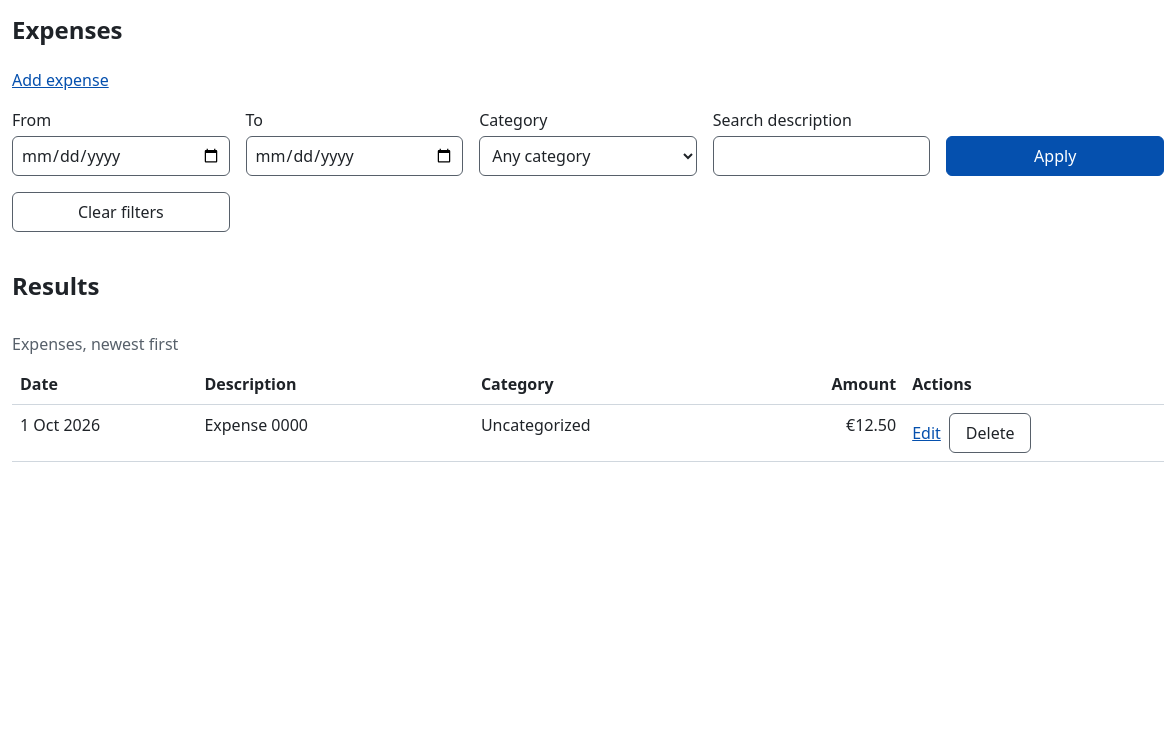
ExpensesView: empty and failed states › removes the field errors of a refused Apply when it empties the unapplied fields
The width and height of the screenshot is (1176, 732).
In the date field with id "filter-from": (121, 156) x1=12 y1=136 x2=230 y2=176, type "2026-10-02"
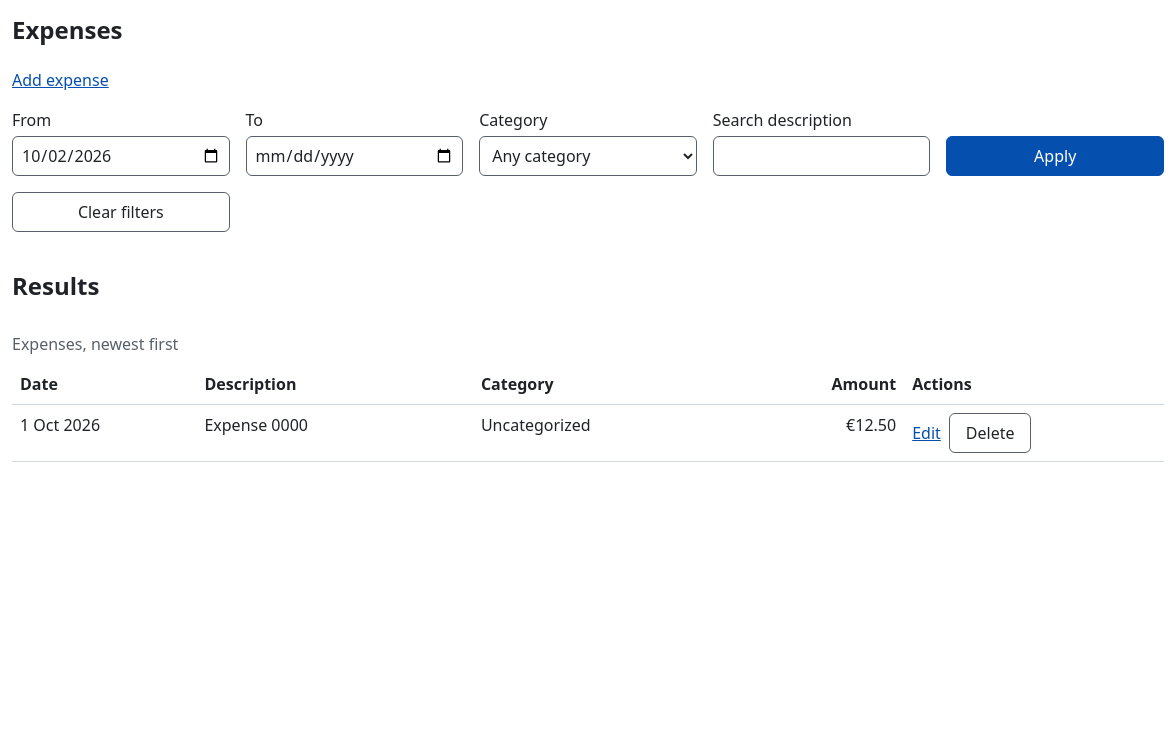
In the date field with id "filter-to": (354, 156) x1=246 y1=136 x2=463 y2=176, type "2026-10-01"
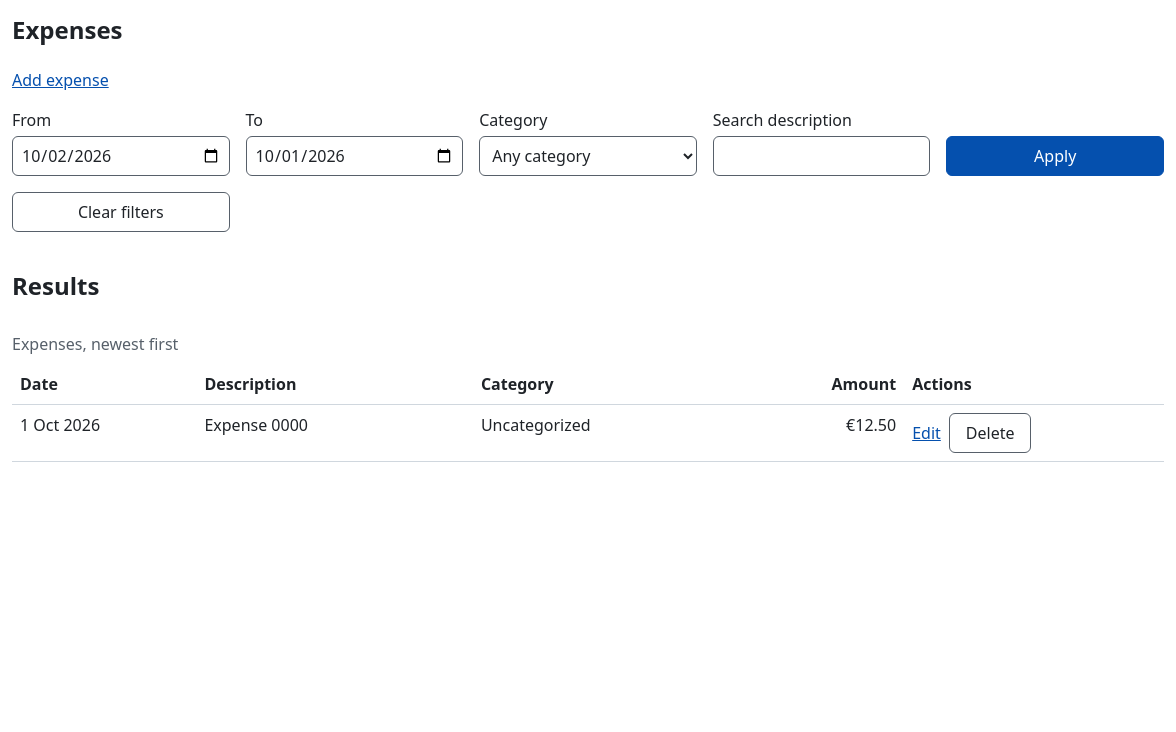
Submit the form, box x1=12 y1=108 x2=1164 y2=248
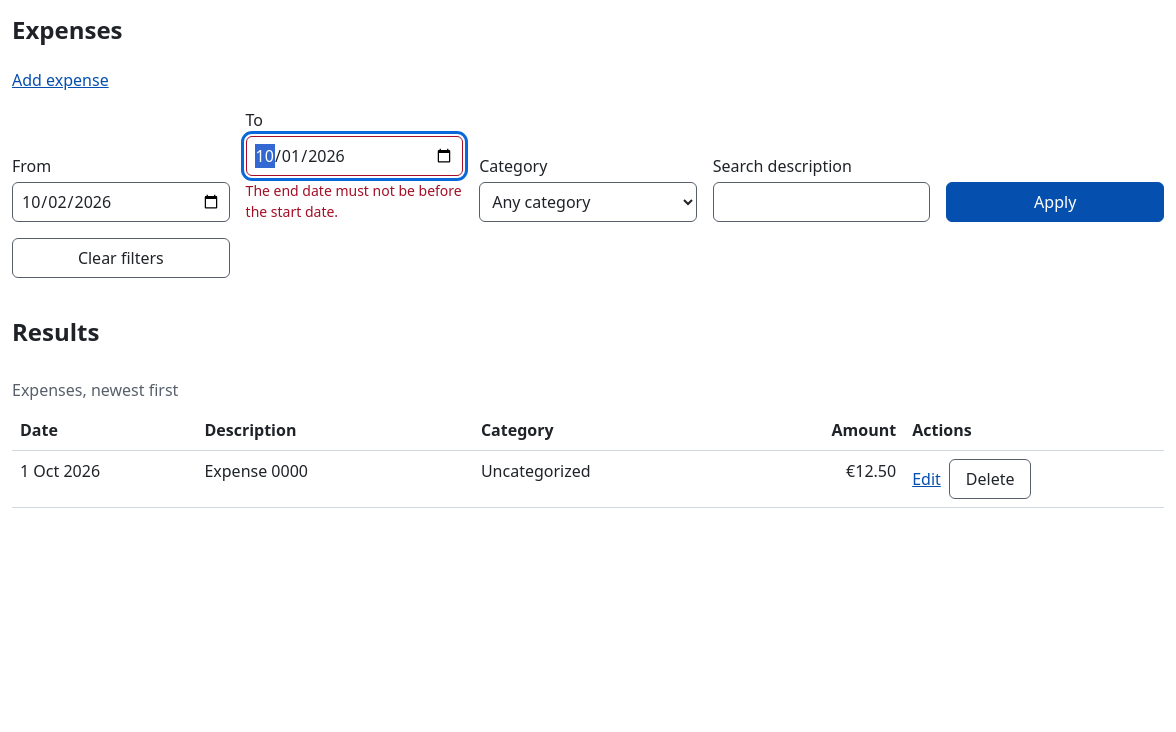
Click the button "Clear filters": (121, 258) x1=12 y1=238 x2=230 y2=278
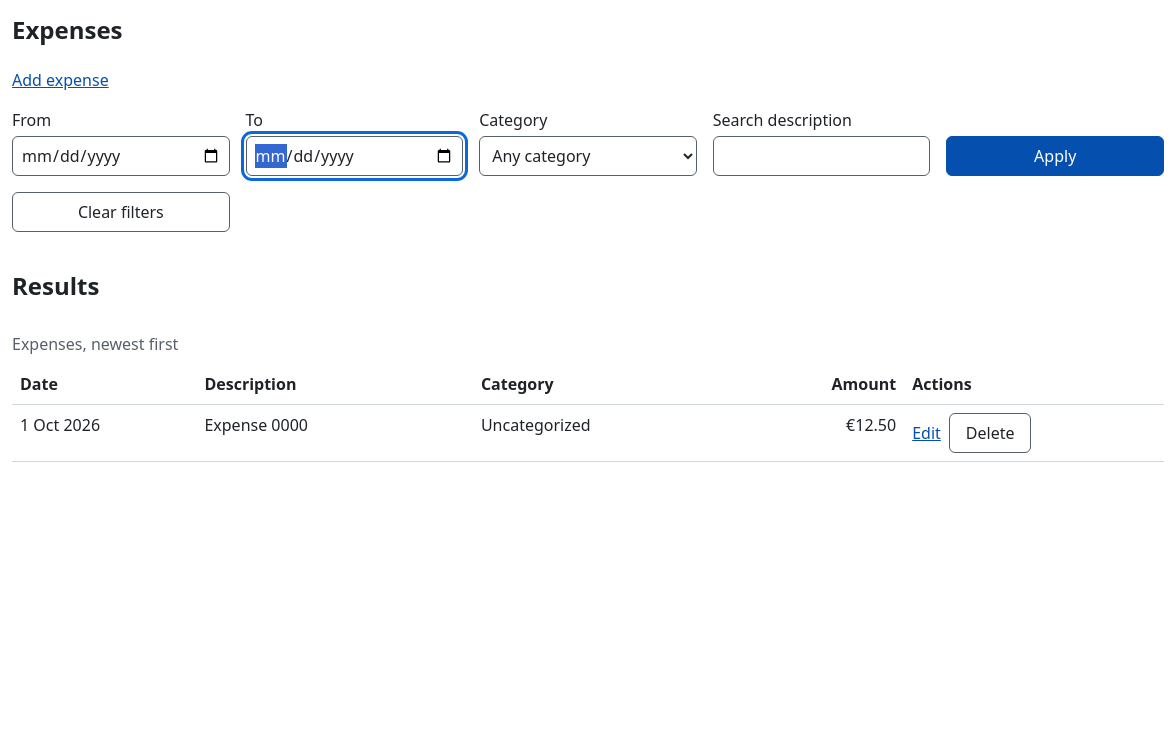
Expected: the date field with id "filter-from" is empty, x1=12 y1=136 x2=230 y2=176
